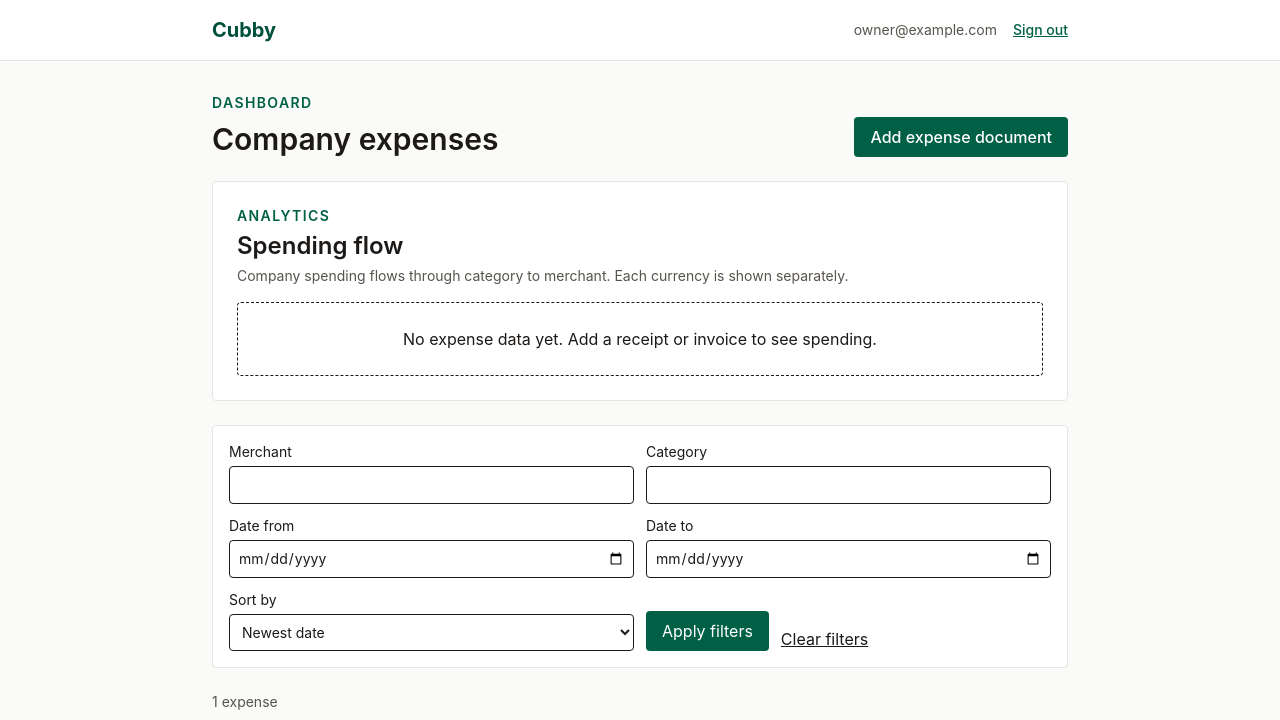
Test: receipt screens › applies combined filters, sort, empty state, and reset
Type " Office " into the search field labelled "Merchant".
click(432, 485); type(" Office ")  # box [229, 466, 634, 504]
Type "Travel" into the search field labelled "Category".
click(848, 485); type("Travel")  # box [646, 466, 1051, 504]
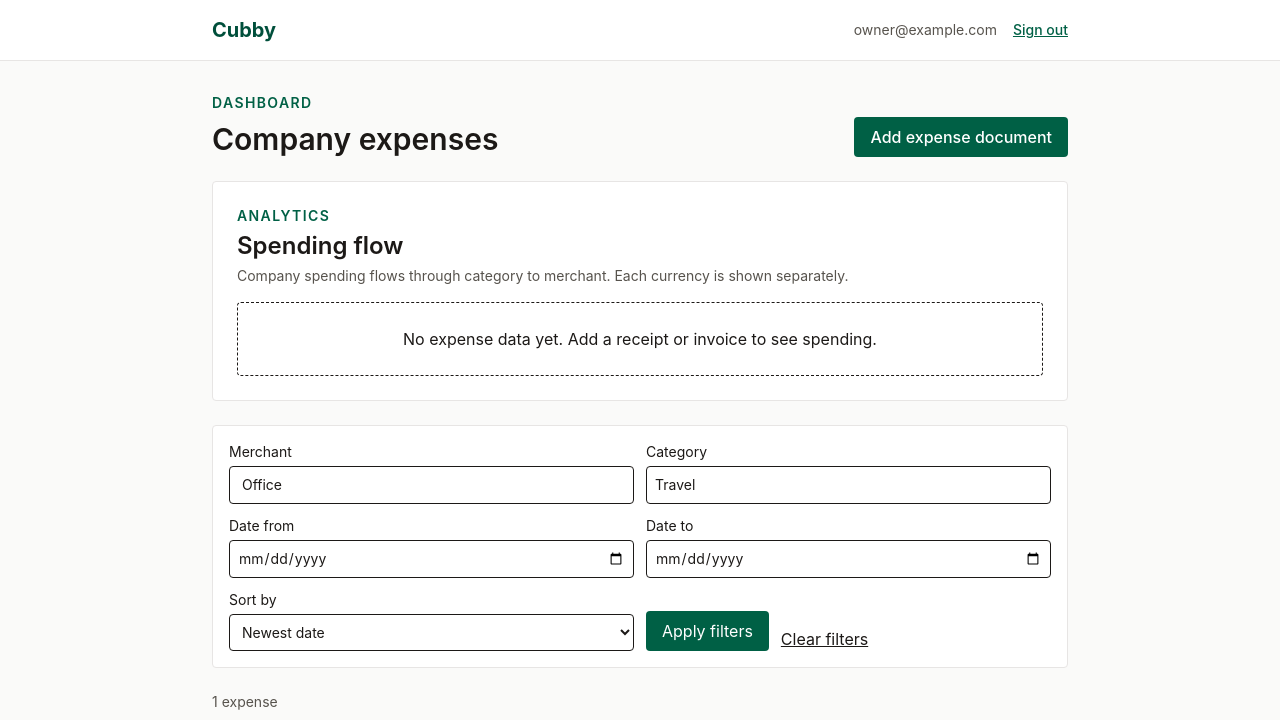
Type "2026-09-01" into the date field labelled "Date from".
click(432, 559); type("2026-09-01")  # box [229, 540, 634, 578]
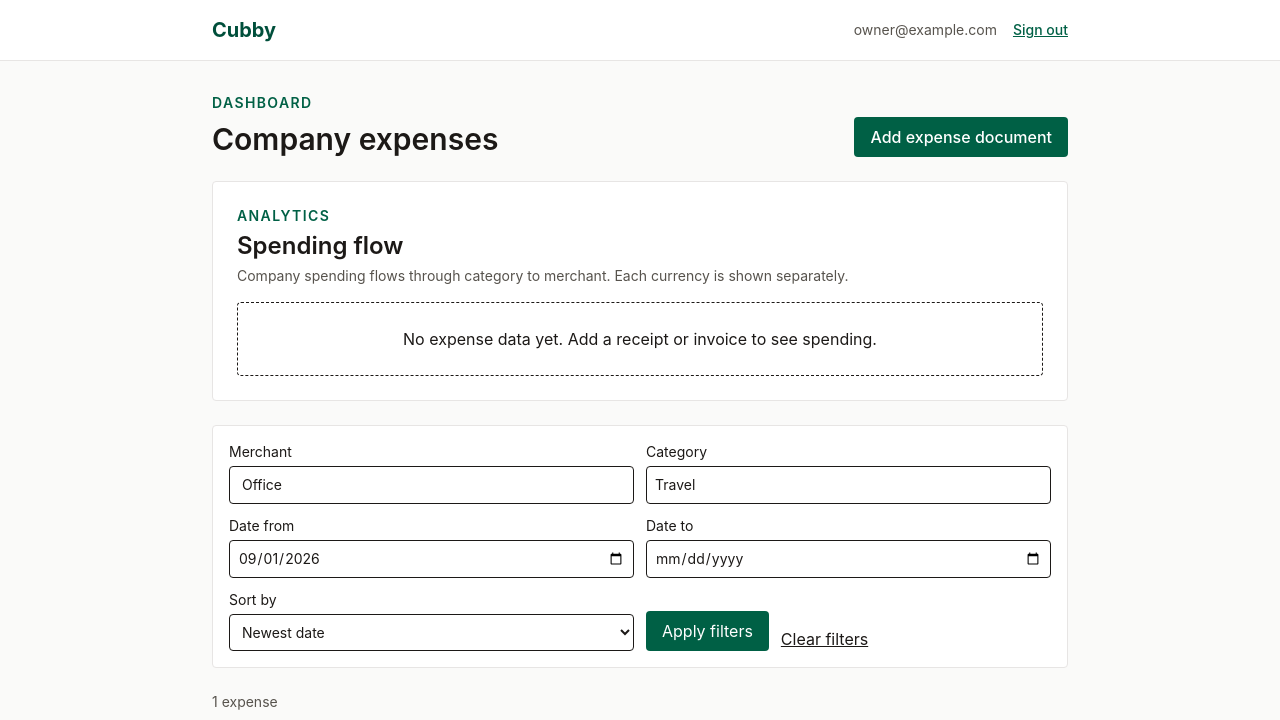
Type "2026-09-28" into the date field labelled "Date to".
click(848, 559); type("2026-09-28")  # box [646, 540, 1051, 578]
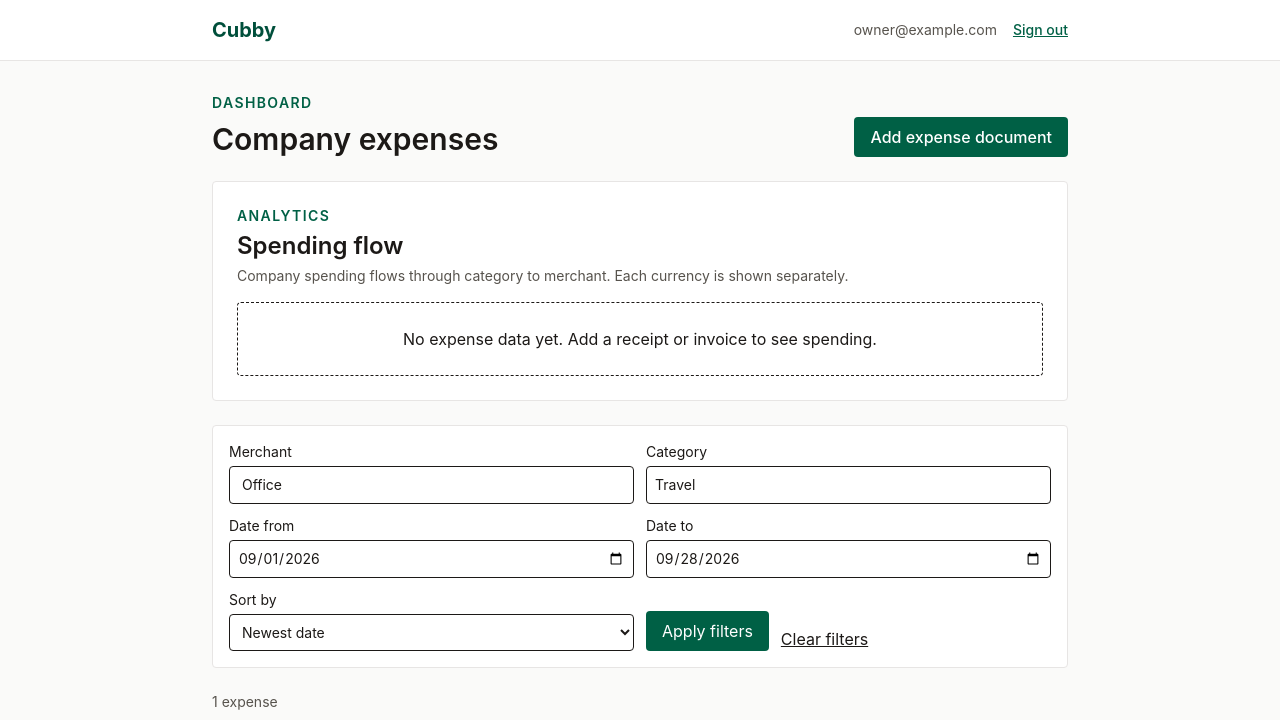
Select "Merchant A–Z" in the dropdown labelled "Sort by" at (432, 632), box [229, 614, 634, 651]
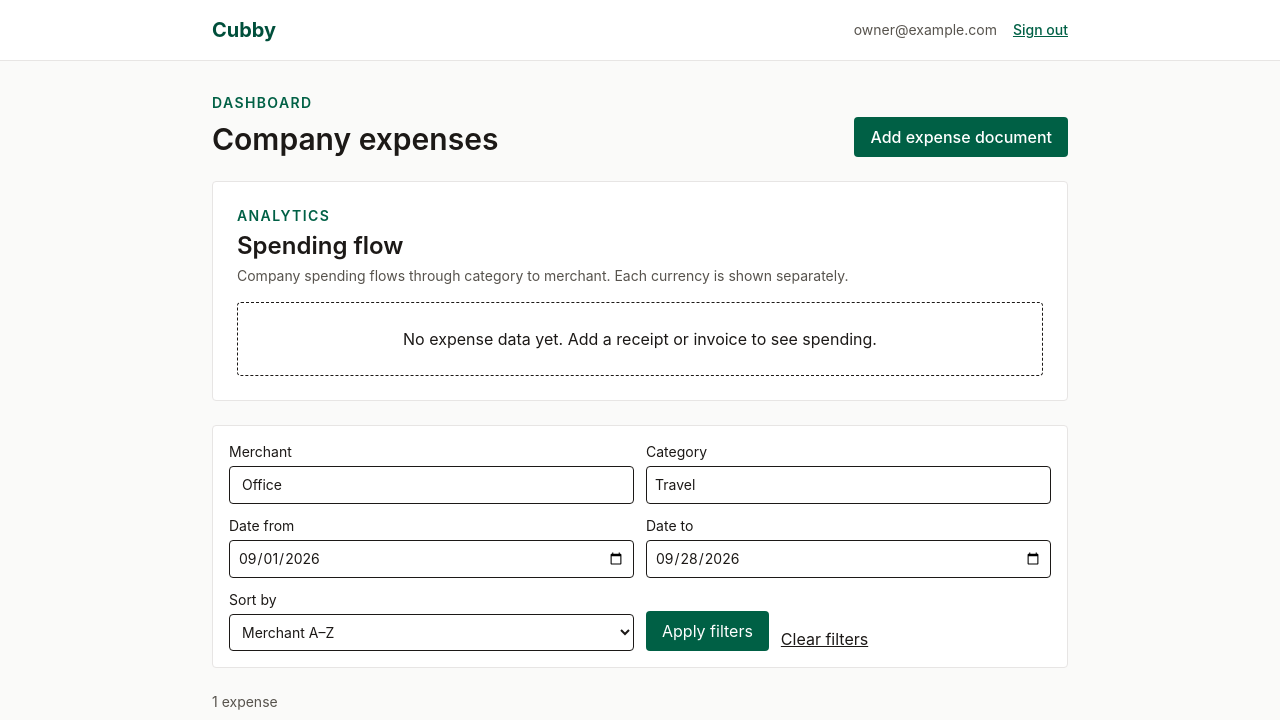
Click the button "Apply filters".
click(707, 631)  # box [646, 611, 769, 651]
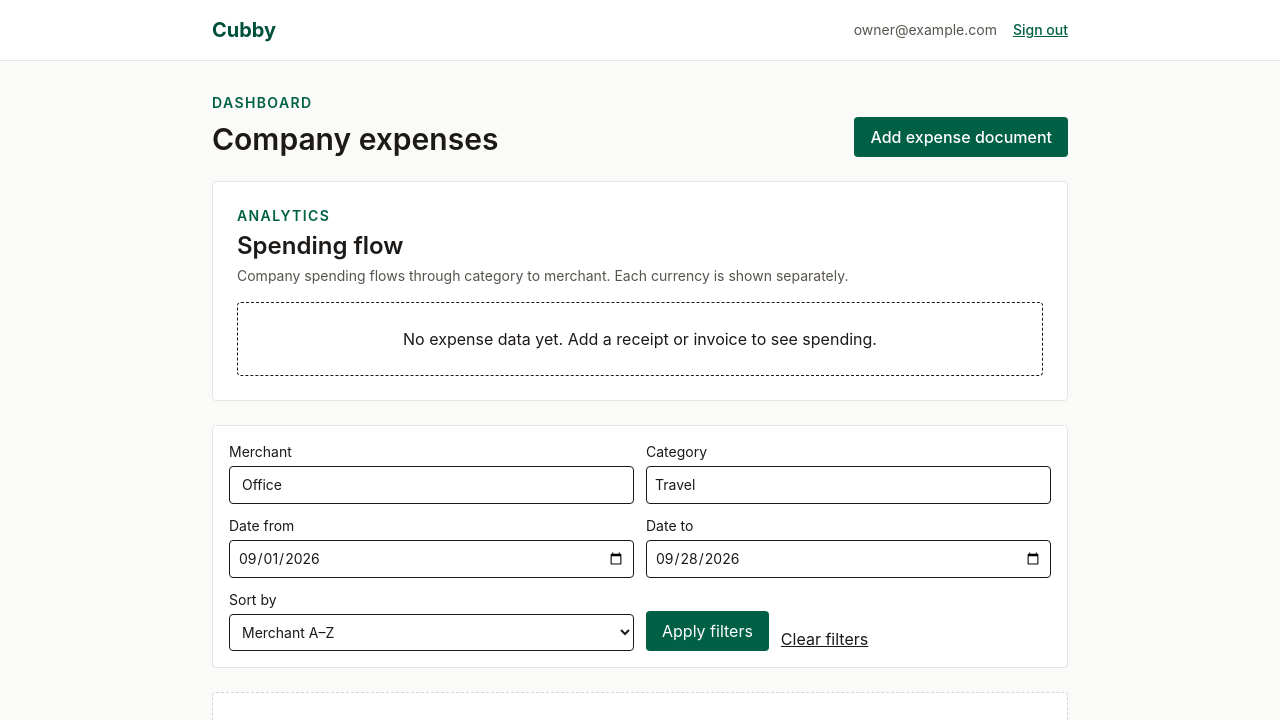
Click the button "Clear filters".
click(825, 639)  # box [781, 627, 868, 651]
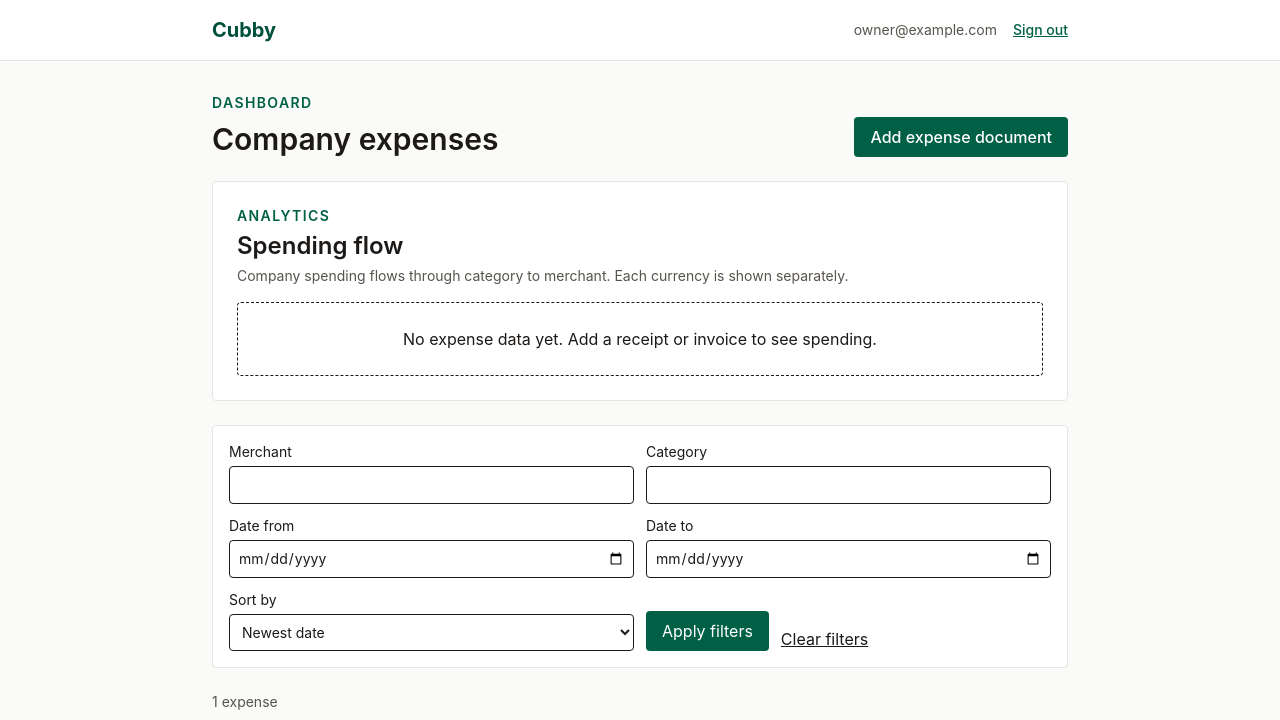
Expected: the search field labelled "Merchant" is empty, [229, 466, 634, 504]
